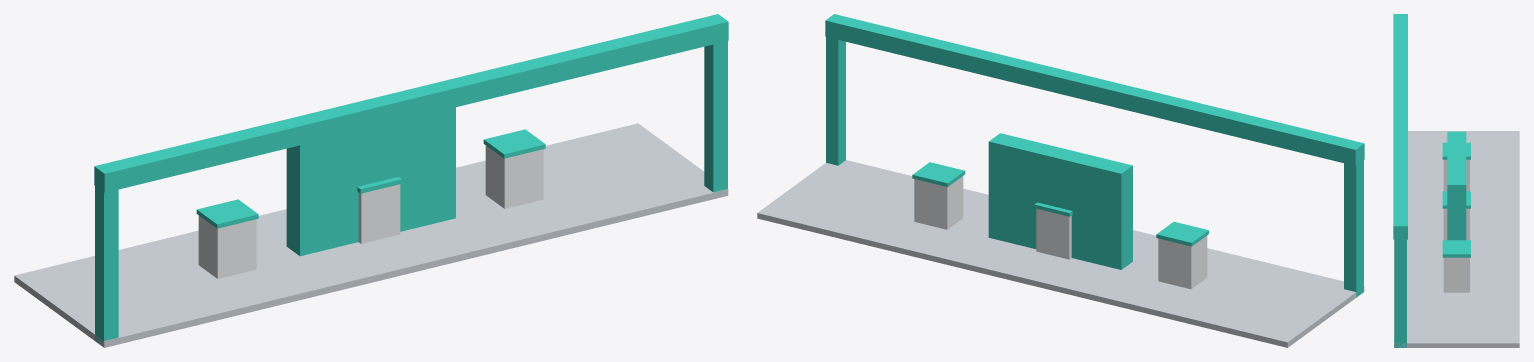
3 views of the same model, side by side, from view 1: azimuth 30°, elevation 25°; view 2: azimuth 150°, elevation 25°; view 3: azimuth 270°, elevation 25° (orthographic). The views are drawn at different scales.
Visible parts, largest first — view 1: Exhibition Booth Concept; view 2: Exhibition Booth Concept; view 3: Exhibition Booth Concept.
Part boxes in pixels (<box>): Exhibition Booth Concept: <box>14,14,728,347</box>; Exhibition Booth Concept: <box>757,14,1364,347</box>; Exhibition Booth Concept: <box>1393,14,1519,347</box>.
Bounding box in the file's own units: 12 × 3.2 × 3.01.
